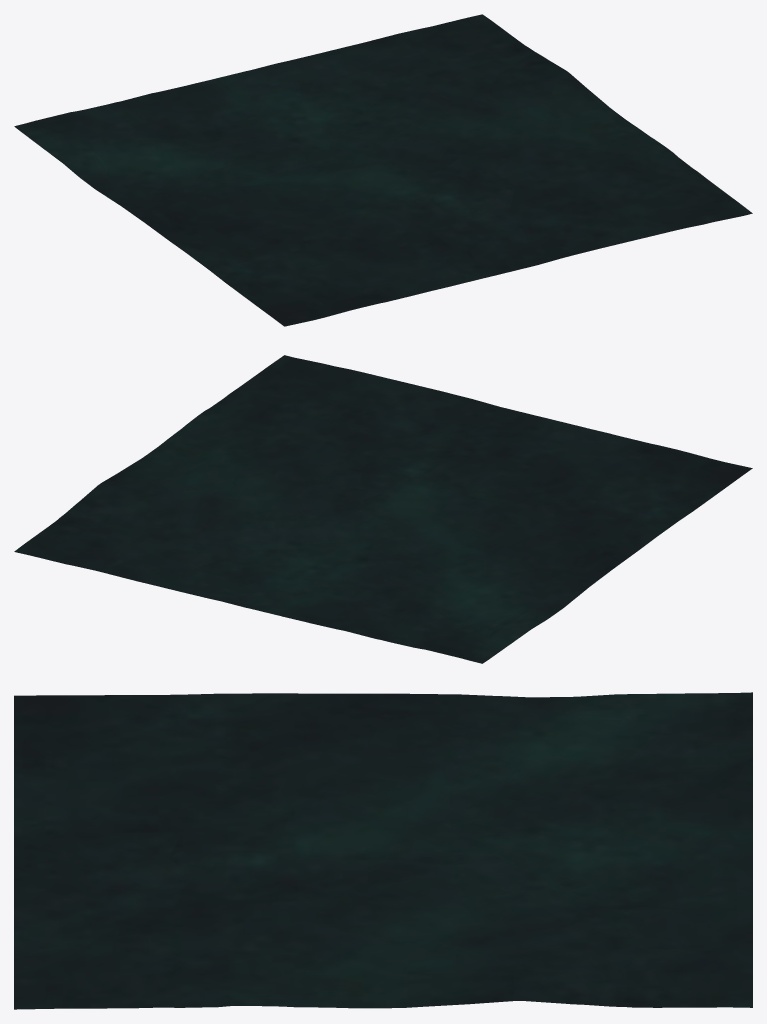
3 renders of one model, top to bottom at view 1: azimuth 30°, elevation 25°; view 2: azimuth 150°, elevation 25°; view 3: azimuth 270°, elevation 25°, orthographic. The views are drawn at different scales.
Size of the model in its own units: 52.22 by 0.8909 by 52.22.
Materials: 2 (2 with a texture image).
